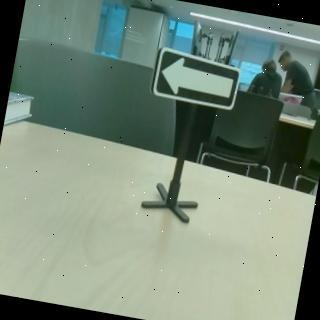sign_oneway_left: (149, 46, 246, 117)
